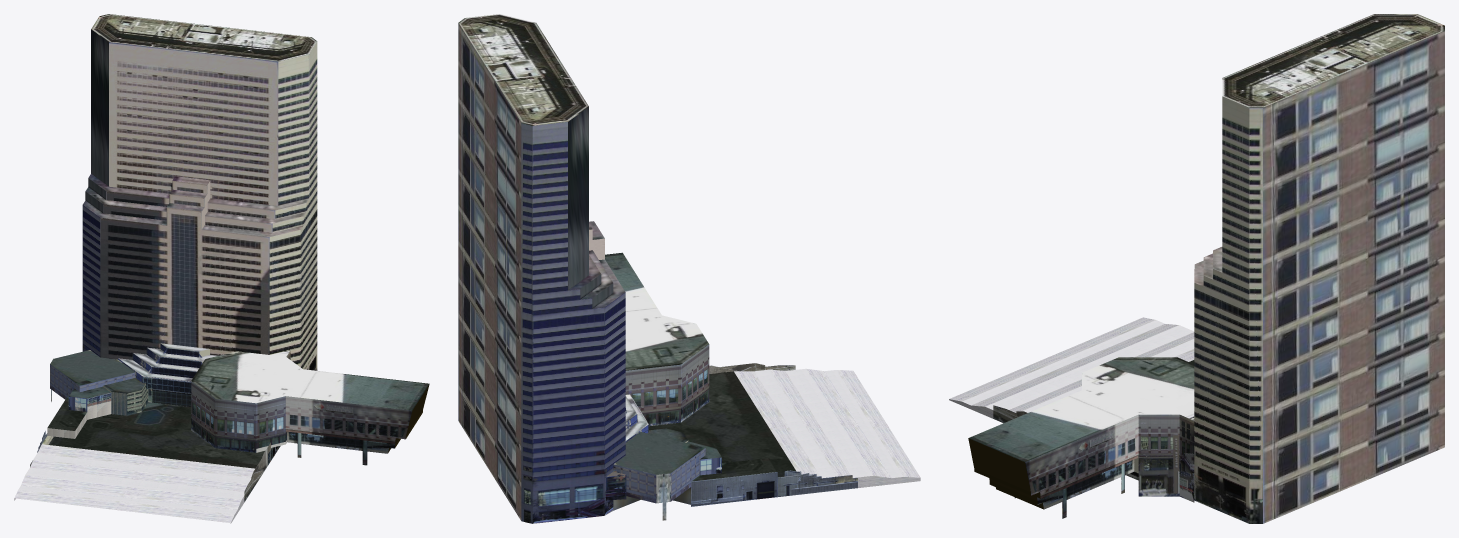
3 views of the same model, side by side, from view 1: azimuth 30°, elevation 25°; view 2: azimuth 150°, elevation 25°; view 3: azimuth 270°, elevation 25° (orthographic). The views are drawn at different scales.
Parts seen in each view (by area): view 1: Model; view 2: Model; view 3: Model.
Part boxes in pixels (x1=…): Model: x1=14, y1=14, x2=429, y2=523; Model: x1=458, y1=14, x2=920, y2=523; Model: x1=949, y1=14, x2=1444, y2=523.
Size of the model in its own units: 134 by 121 by 128.
